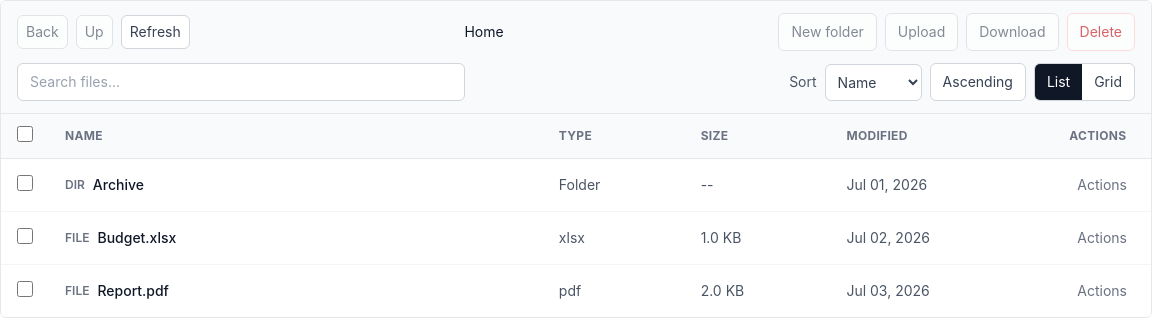
Scenario: FileManager › filters items with the search box
This screenshot has width=1152, height=335.
Step 1. Type "budget" into the search field → (241, 82), box [17,63,465,101]
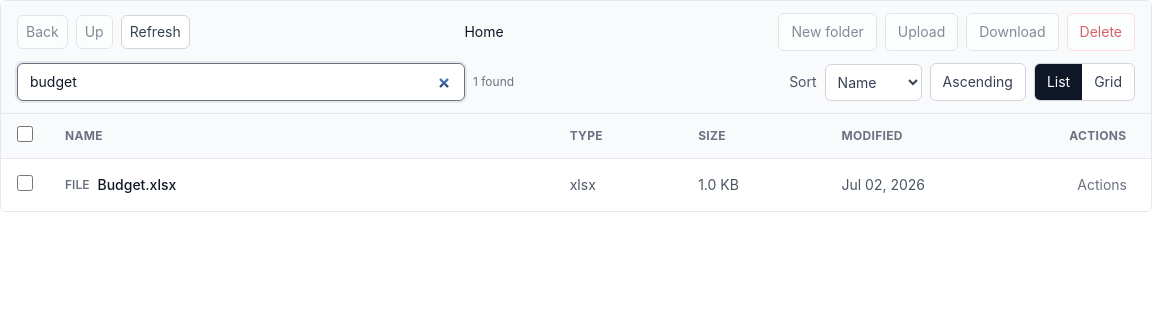
Expected: the button "FILE Budget.xlsx" is shown, [65,175,176,195]
Result: the button "Report.pdf" is gone
Result: the text "1 found" is shown at [473,74,514,90]
